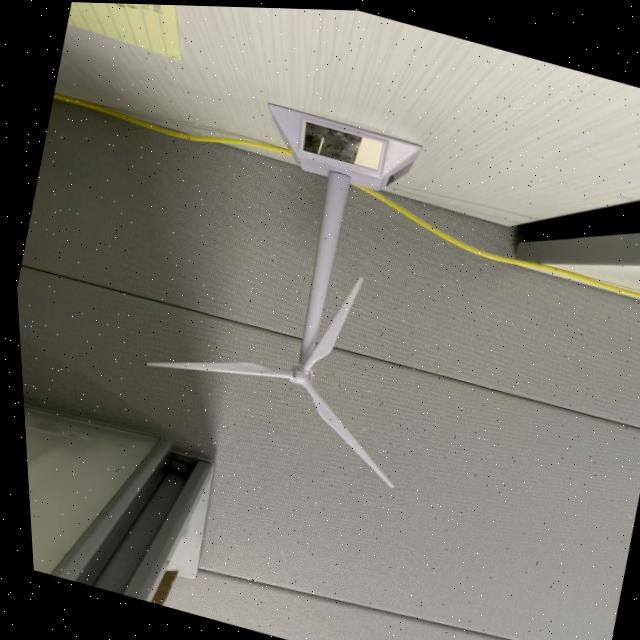solid-blade: (299, 380, 386, 484), (296, 275, 357, 370), (141, 360, 284, 374)
